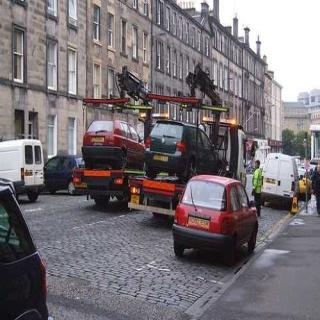Towing_truck: (77, 62, 248, 222)
